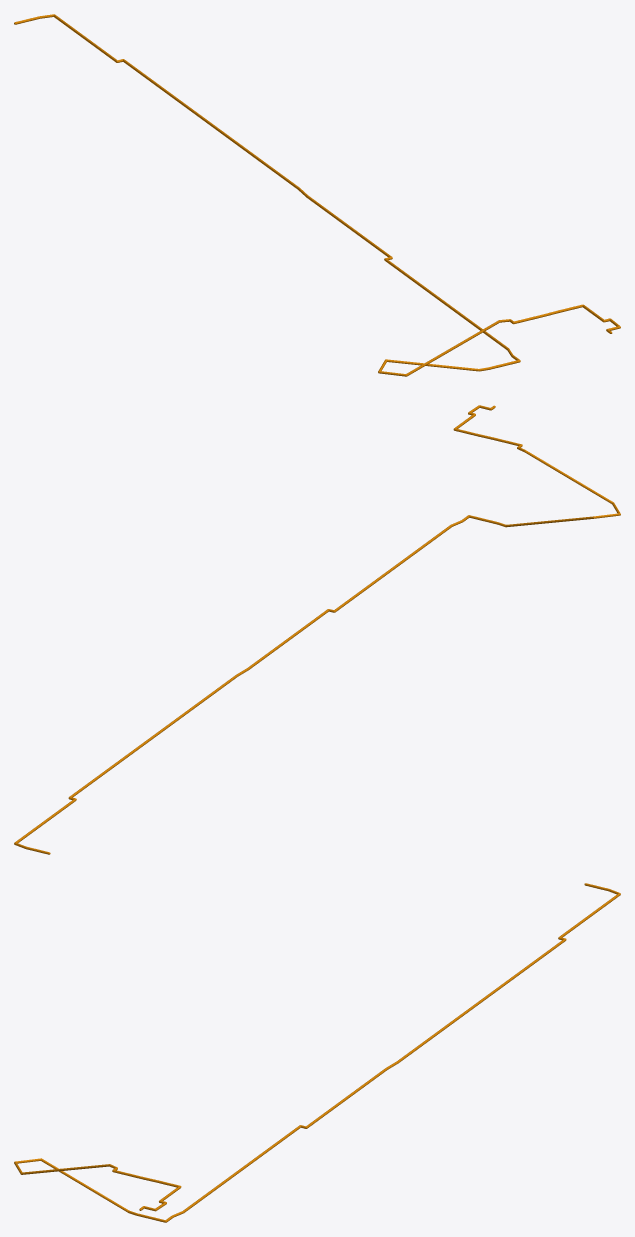
3 renders of one model, top to bottom at view 1: azimuth 30°, elevation 25°; view 2: azimuth 150°, elevation 25°; view 3: azimuth 330°, elevation 25°, orthographic. The views are drawn at different scales.
Size of the model in its own units: 1619 by 520 by 7588.
